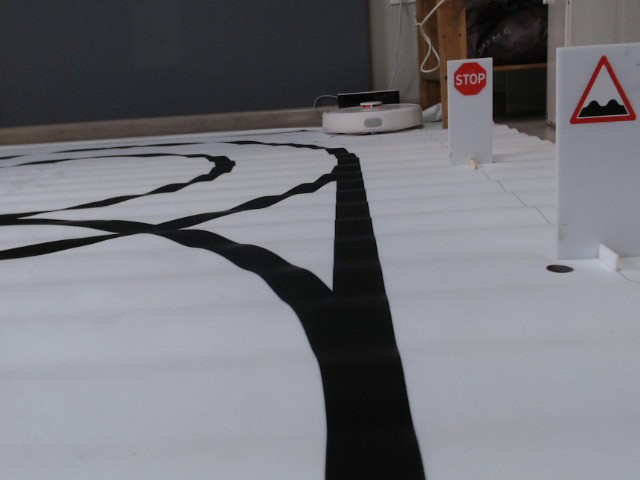Nerov: (566, 55, 637, 124)
